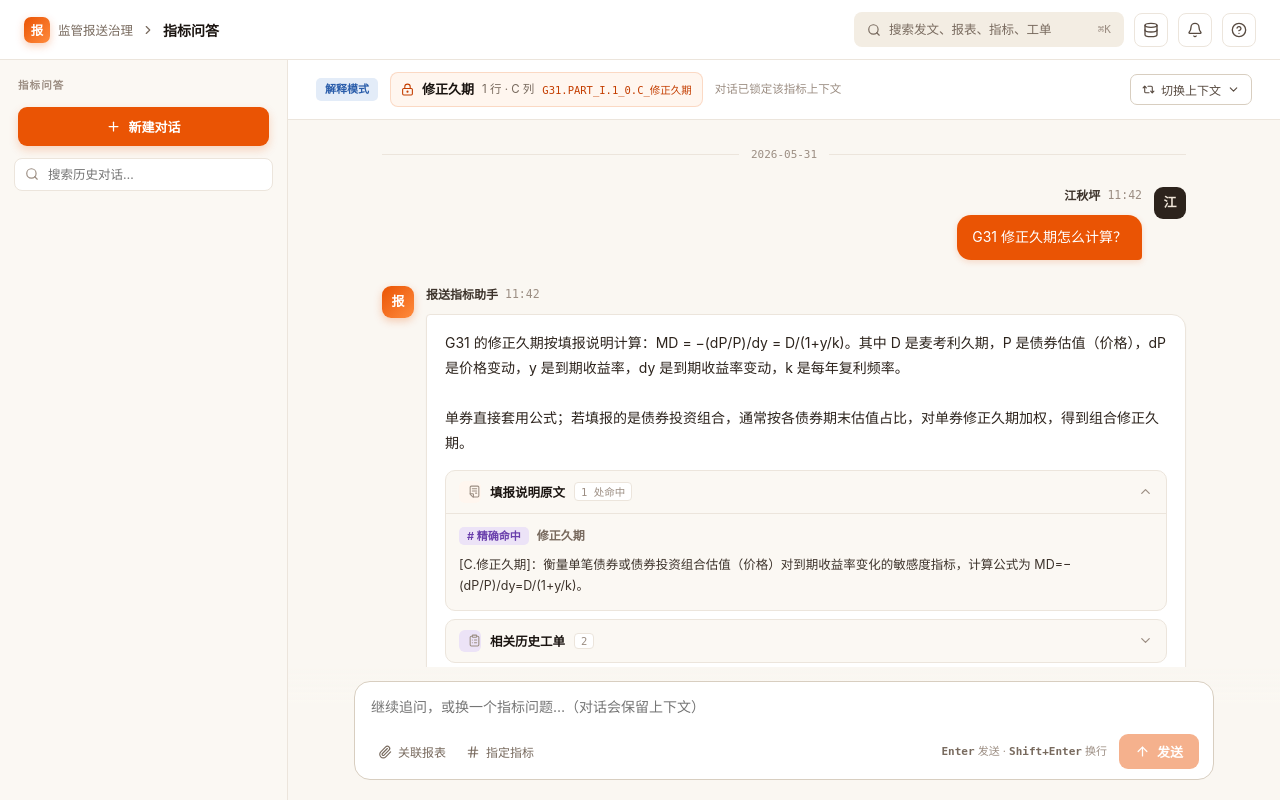
IndicatorQAView › shows the empty-state examples after starting a new conversation
What coordinates should you click on to do the following:
click the button with test id "qa-new-chat"
I would click on:
 (144, 126)
Its box is x1=18 y1=107 x2=269 y2=146.
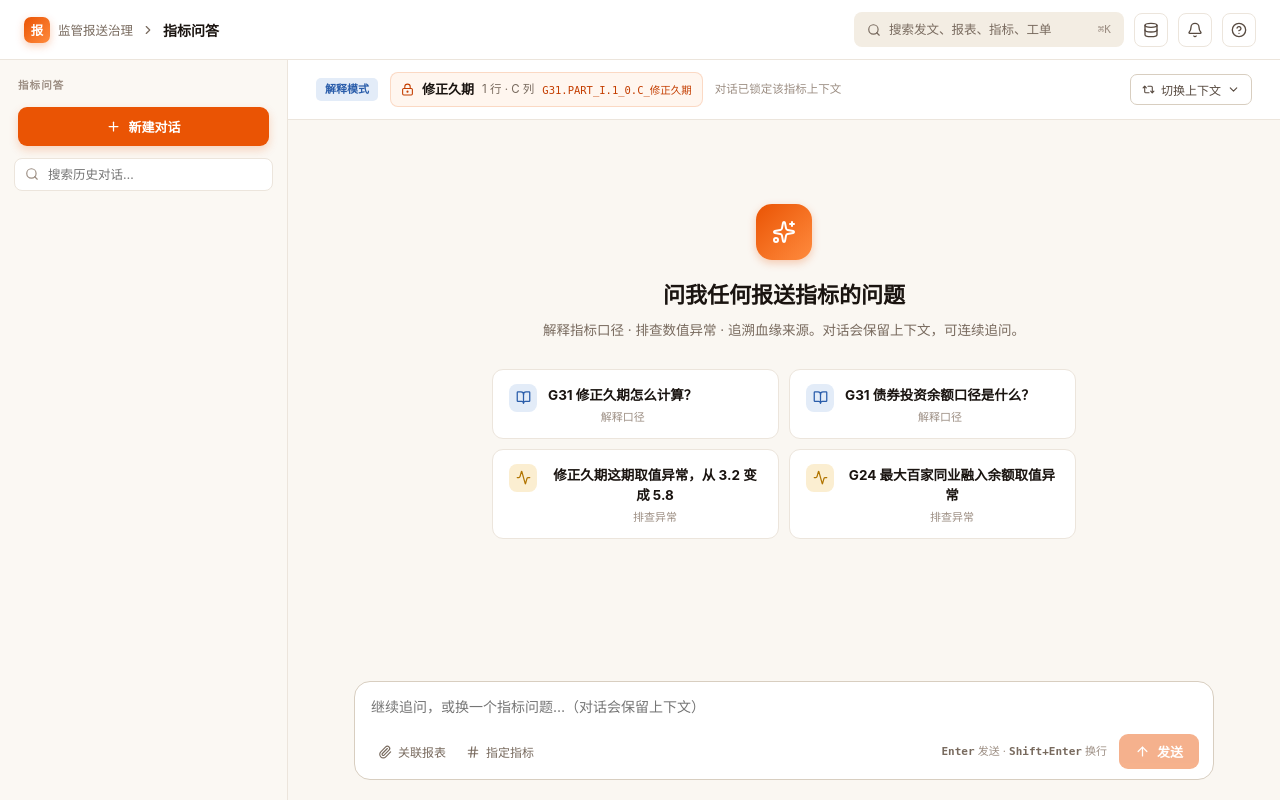
Expected: the text "问我任何报送指标的问题" is shown, x1=663 y1=282 x2=905 y2=308
Expected: the text "解释指标口径 · 排查数值异常 · 追溯血缘来源" is shown, x1=543 y1=322 x2=1025 y2=338
